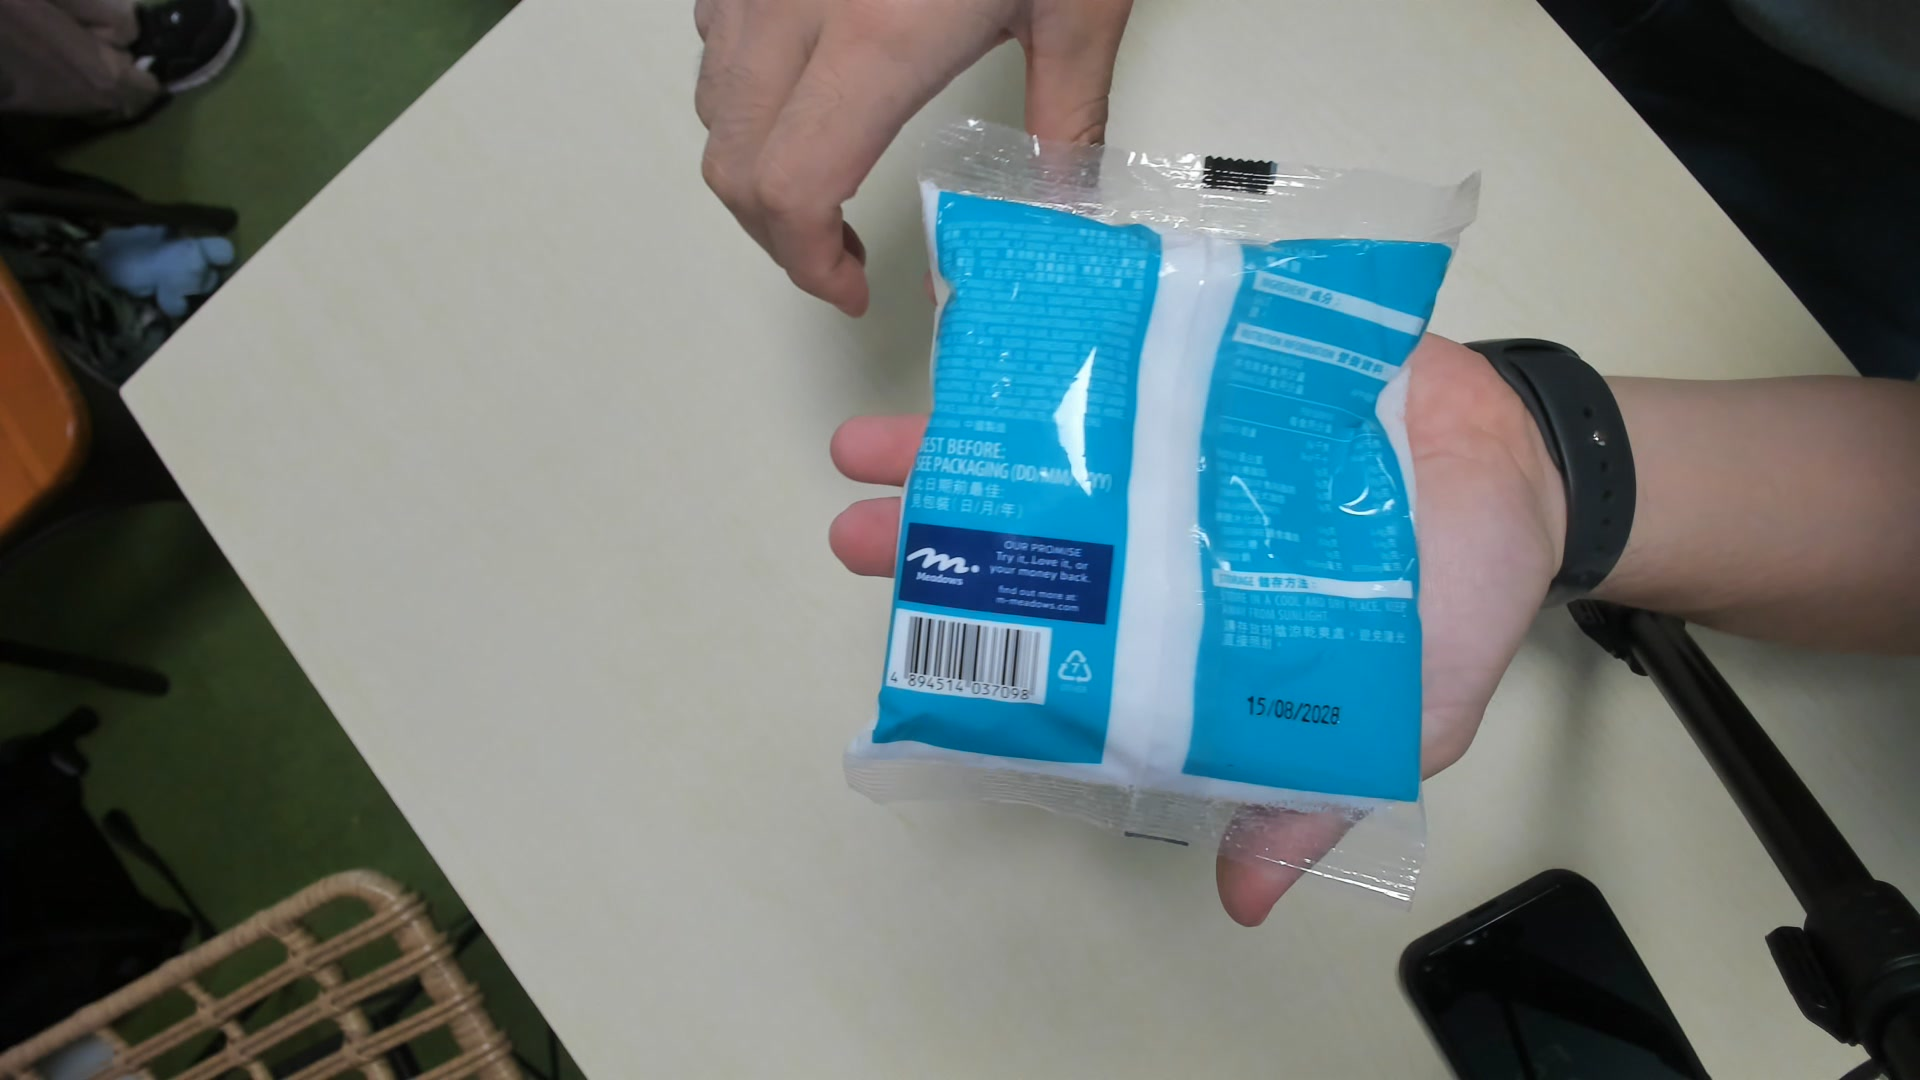Salt_400-499g_NonHalal_NonHealthy: (856, 88, 1480, 902)
